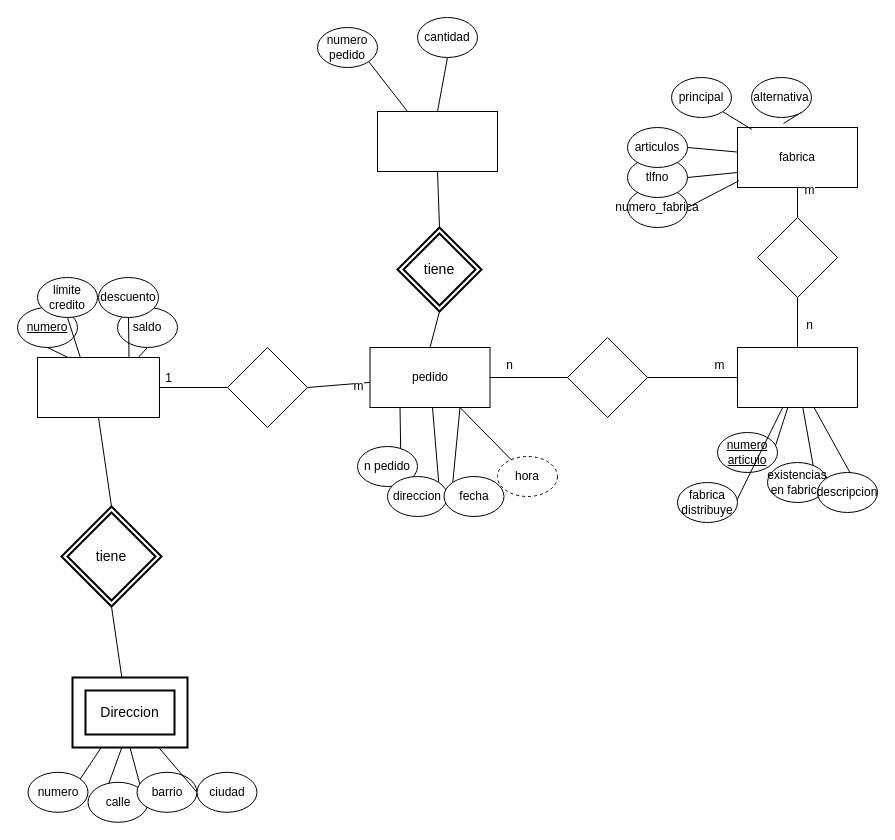
This 895x840 diagram has some shape labels left out. The box of each missing label's shape, as (x1, y1, x2, y2) in pixels:
articulo: (736, 346, 858, 408)
Cliente: (36, 356, 160, 418)
contiene: (566, 336, 648, 418)
hace: (756, 216, 838, 298)
linea_pedido: (376, 110, 498, 172)
realiza: (226, 346, 308, 428)
